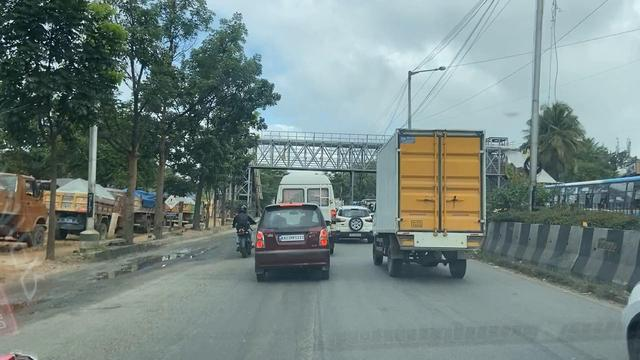HMV: (372, 131, 483, 275)
LMV: (256, 204, 328, 280), (235, 205, 251, 254)
RoadDamages: (89, 241, 217, 291), (303, 285, 327, 360)
